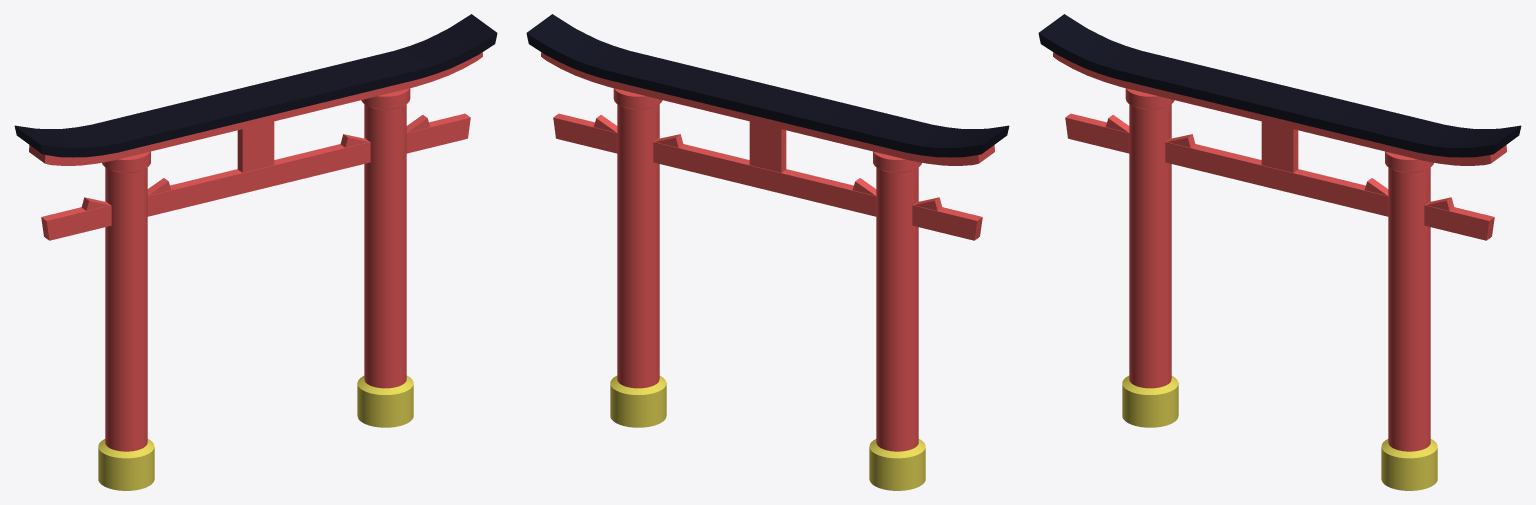
Rendered from toori.glb.
The picture shows the model from 3 angles, left to right: view 1: azimuth 30°, elevation 25°; view 2: azimuth 150°, elevation 25°; view 3: azimuth 330°, elevation 25°; orthographic projection.
Parts seen in each view (by area): view 1: Techo, Columna_1, Columna_2, Forma; view 2: Techo, Columna_1, Columna_2, Forma; view 3: Techo, Columna_2, Columna_1, Forma.
Part boxes in pixels (<box>): Techo: <box>14,14,497,165</box>; Columna_1: <box>357,88,413,427</box>; Columna_2: <box>98,151,154,490</box>; Forma: <box>41,113,470,240</box>; Techo: <box>526,14,1009,165</box>; Columna_1: <box>610,88,666,427</box>; Columna_2: <box>869,151,925,490</box>; Forma: <box>553,113,982,240</box>; Techo: <box>1038,14,1521,165</box>; Columna_2: <box>1122,88,1178,427</box>; Columna_1: <box>1381,151,1437,490</box>; Forma: <box>1065,113,1494,240</box>.
Size of the model in its own units: 7.49 by 5.77 by 0.8.
